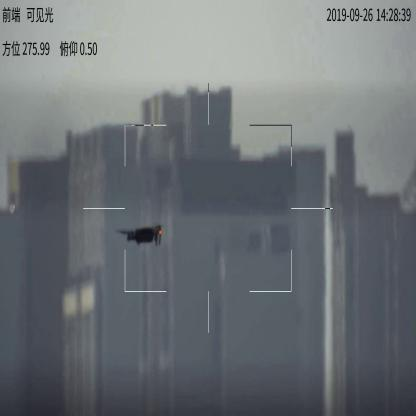uav: (121, 222, 169, 246)
